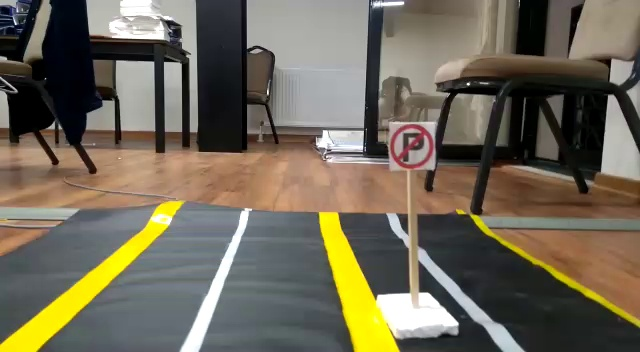park_yapilmaz: (388, 121, 436, 172)
